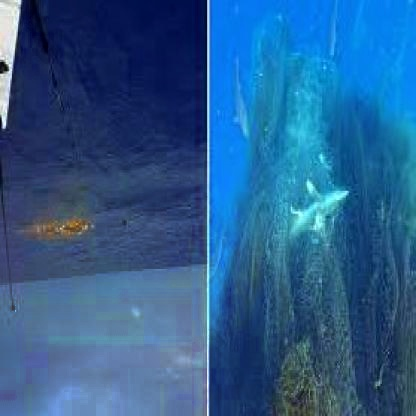net: (220, 262, 416, 416)
